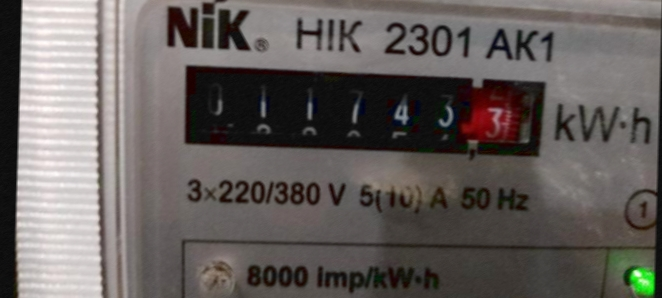0: (203, 78, 226, 118), (253, 78, 272, 120)
1: (300, 81, 317, 122)
3: (435, 87, 456, 131), (483, 102, 504, 140)
4: (390, 86, 411, 127)
7: (343, 82, 367, 126)
screen: (163, 50, 554, 167)
